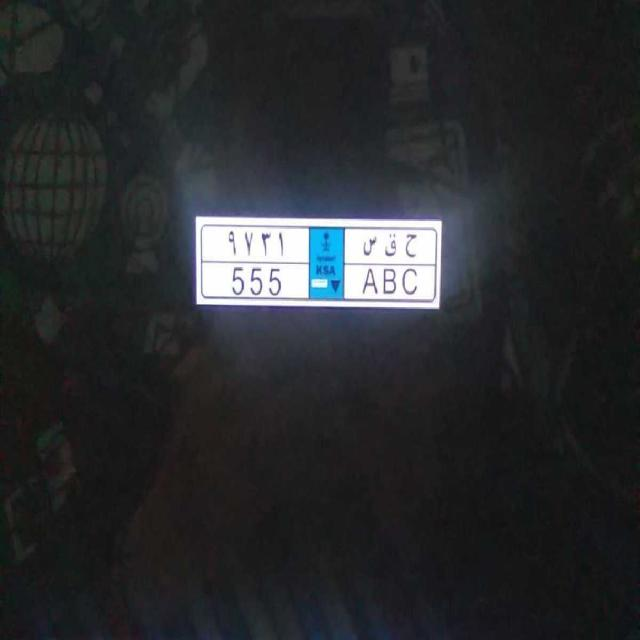license_plate: (211, 259, 430, 307)
